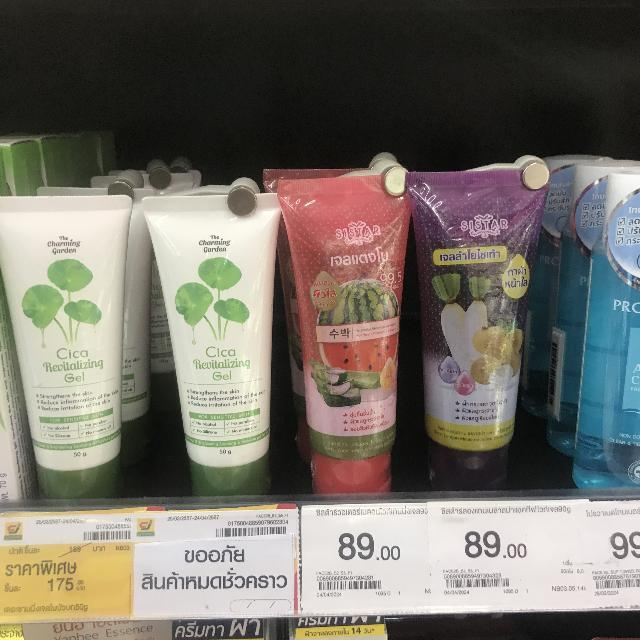Squeeze Tube: (402, 141, 548, 499), (134, 186, 288, 490), (276, 167, 408, 491), (4, 181, 130, 512), (582, 142, 640, 502)
